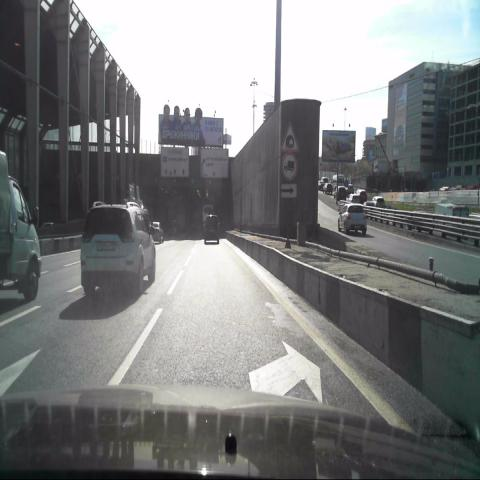1_31: (279, 121, 300, 154)
8_3_1: (281, 183, 297, 198)
